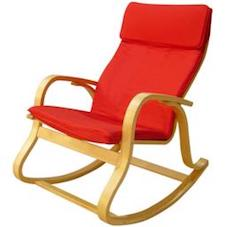chair: (21, 2, 219, 225)
